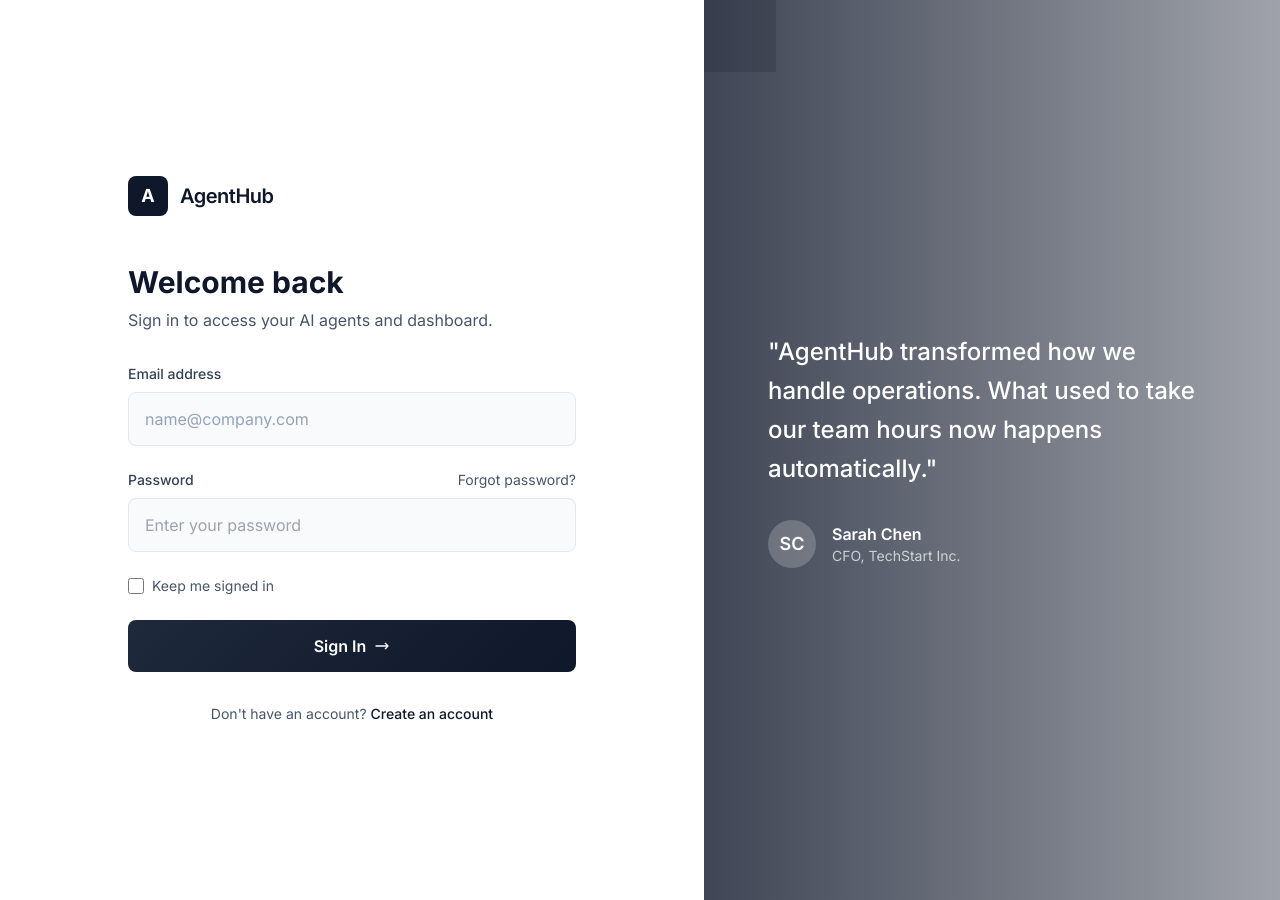
Test: LoginPage › Form Submission › should display generic error message when error has no message
Type "test@example.com" into the field with placeholder "name@company.com" at point(352, 419), box x1=128 y1=392 x2=576 y2=446
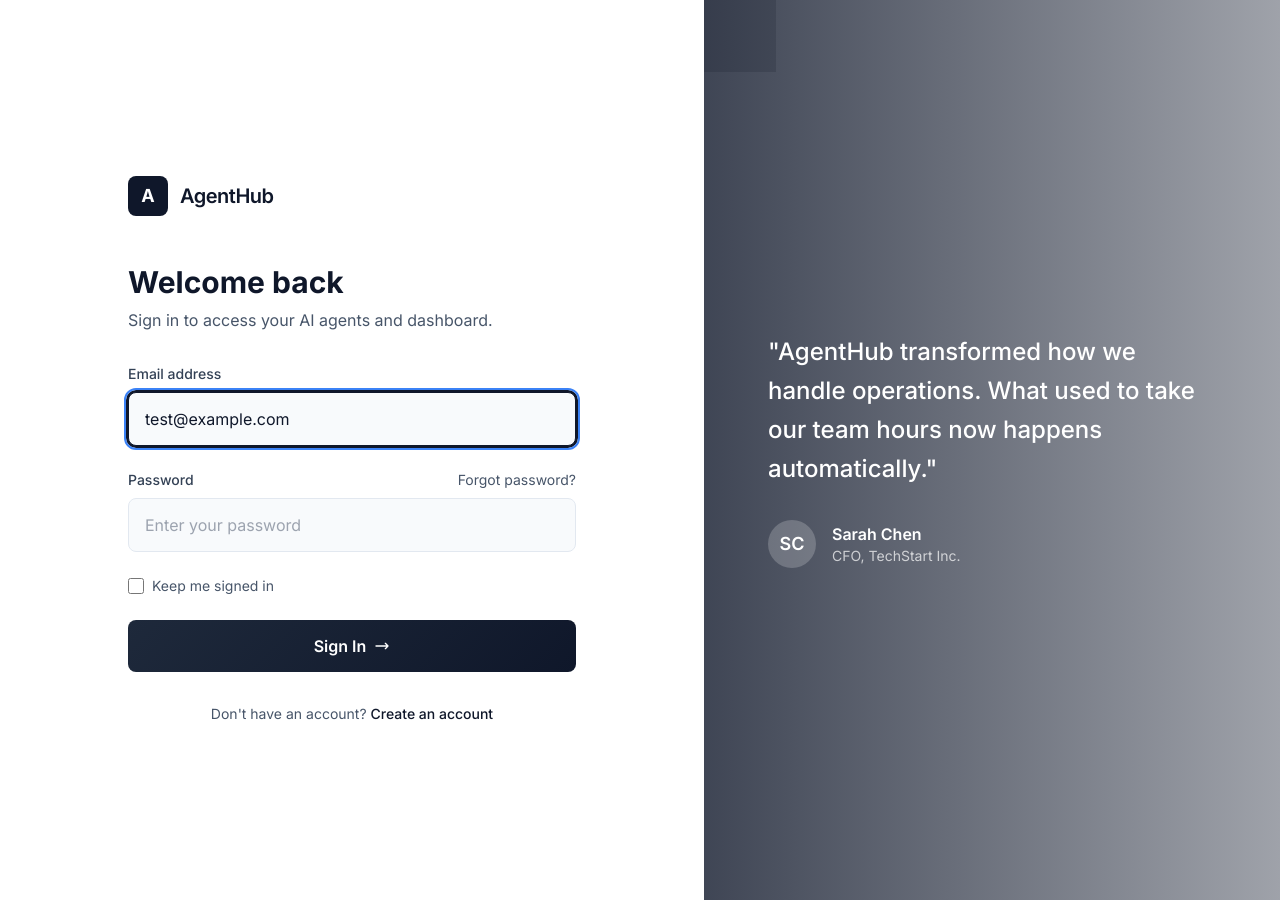
Type "password" into the password field with placeholder "Enter your password" at point(352, 525), box x1=128 y1=498 x2=576 y2=552
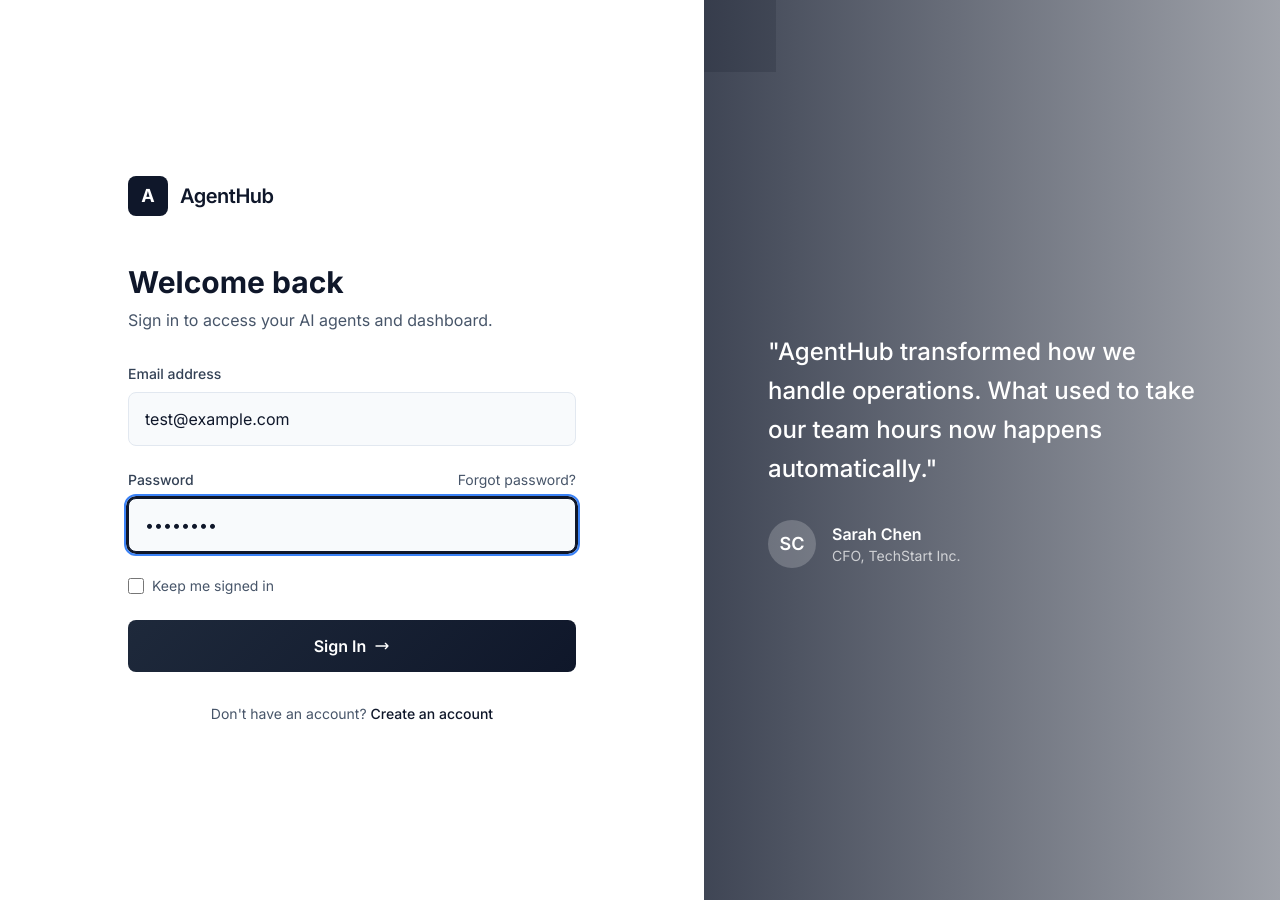
Click the button "Sign In" at point(352, 646), box x1=128 y1=620 x2=576 y2=672
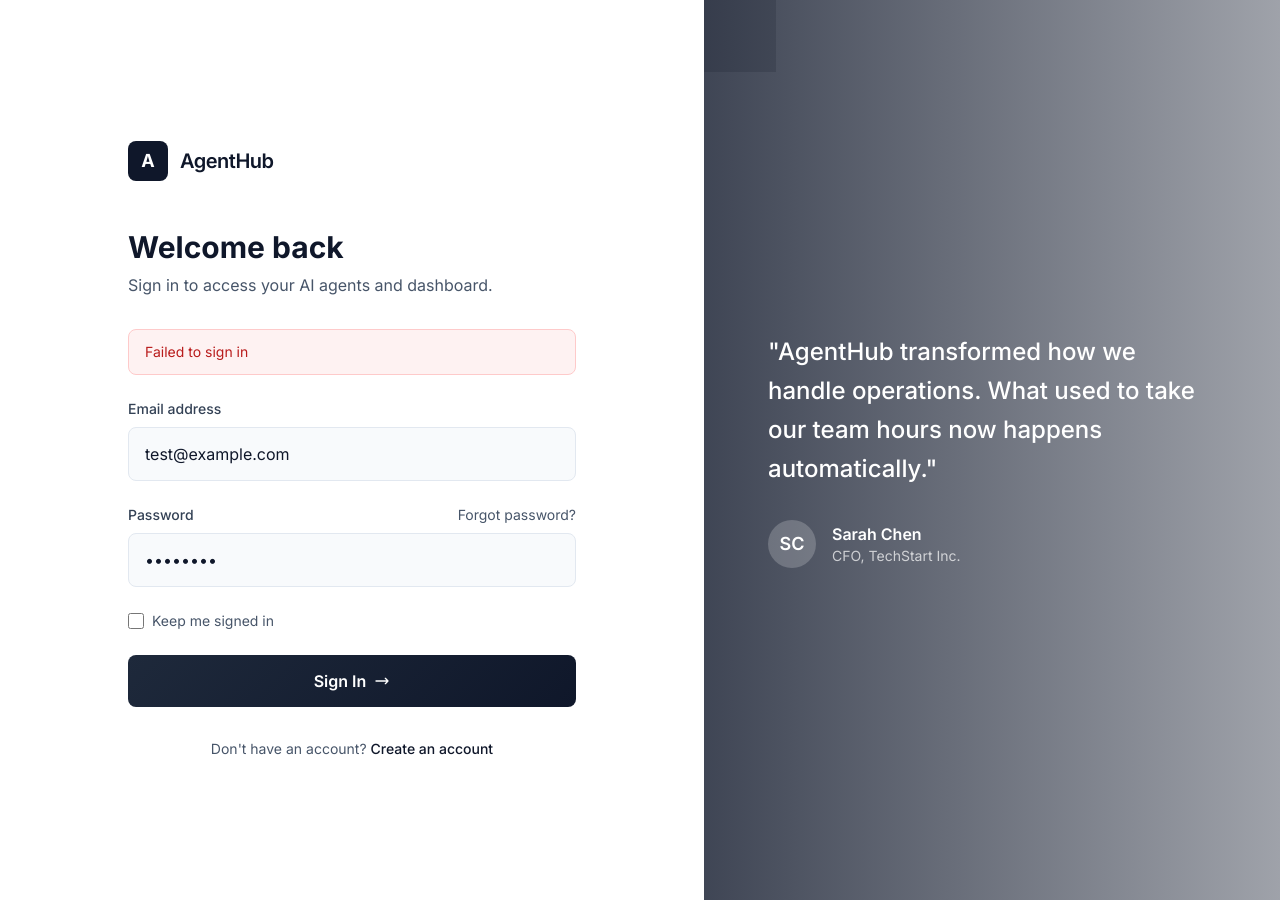
Expected: the text "Failed to sign in" is shown, x1=128 y1=329 x2=576 y2=375
